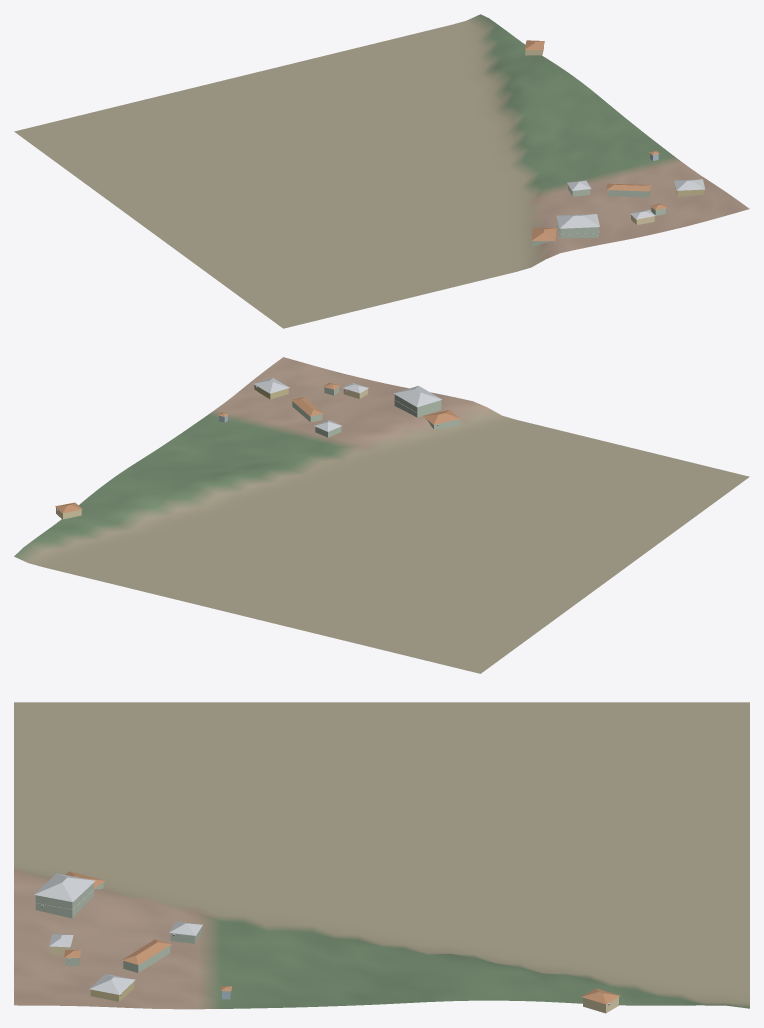
3 renders of one model, top to bottom at view 1: azimuth 30°, elevation 25°; view 2: azimuth 150°, elevation 25°; view 3: azimuth 270°, elevation 25°, orthographic. The views are drawn at different scales.
Parts seen in each view (by area): view 1: Terrain-col, Buildings-col; view 2: Terrain-col, Buildings-col; view 3: Terrain-col, Buildings-col.
Part boxes in pixels (x1=…): Terrain-col: x1=14, y1=14, x2=749, y2=328; Buildings-col: x1=524, y1=40, x2=705, y2=246; Terrain-col: x1=14, y1=357, x2=749, y2=673; Buildings-col: x1=55, y1=378, x2=460, y2=519; Terrain-col: x1=14, y1=702, x2=749, y2=1009; Buildings-col: x1=34, y1=871, x2=620, y2=1013.
Size of the model in its own units: 262 by 12.04 by 256.
